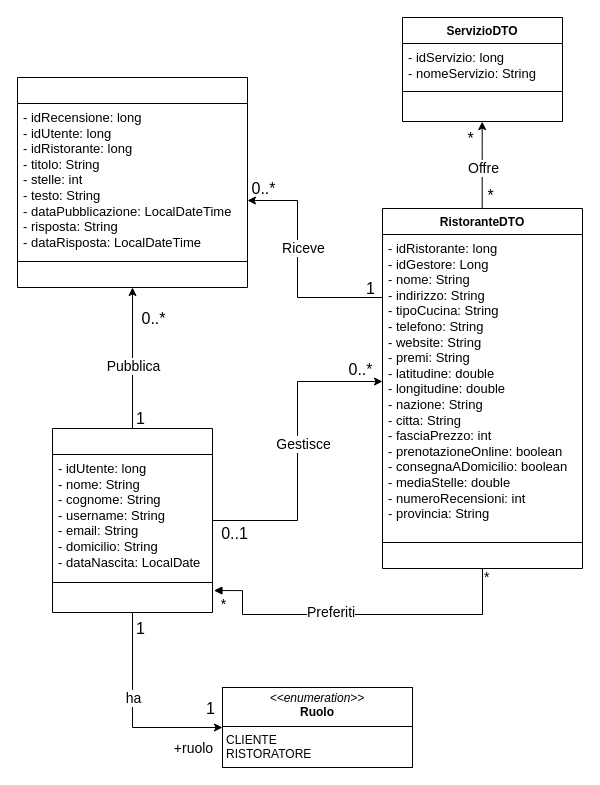
Some shapes in this 600 by 785 pixel diagram are drawn without their labels. The box of each missing label's shape, as (x1, y1, x2, y2) in pixels:
RecensioneDTO: (16, 76, 248, 288)
UtenteDTO: (52, 428, 212, 612)
